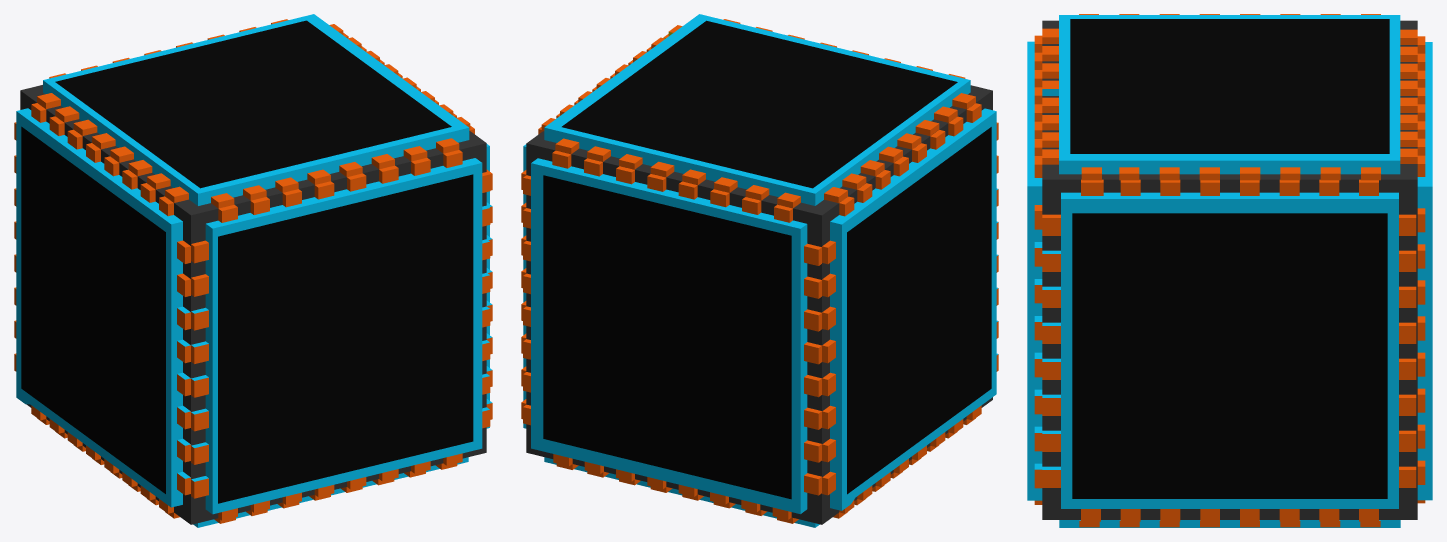
The model's file is Тяжелый.obj.
3 renders of one model, left to right at view 1: azimuth 30°, elevation 25°; view 2: azimuth 150°, elevation 25°; view 3: azimuth 270°, elevation 25°, orthographic. The views are drawn at different scales.
Visible parts, largest first — view 1: Cube; view 2: Cube; view 3: Cube.
Part boxes in pixels (x1,y1,x2,y2): Cube: [14, 14, 492, 527]; Cube: [521, 14, 998, 527]; Cube: [1027, 14, 1432, 527].
Size of the model in its own units: 1.08 by 1.08 by 1.08.
